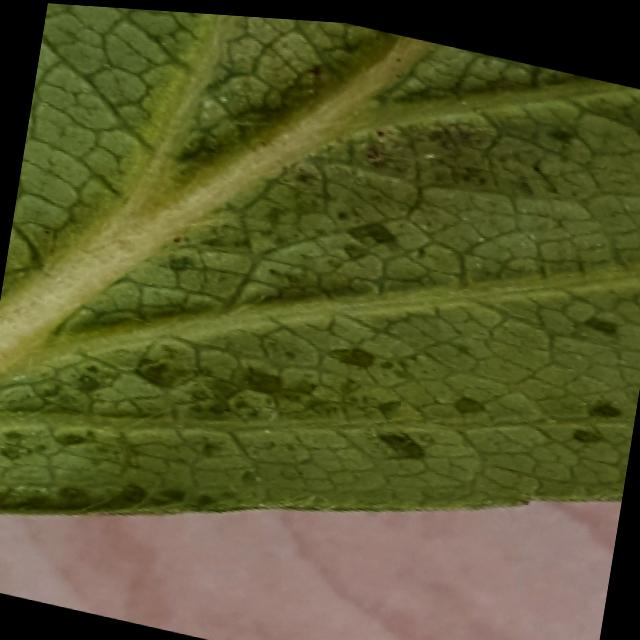Angular Leafspot: (0, 12, 640, 512)
